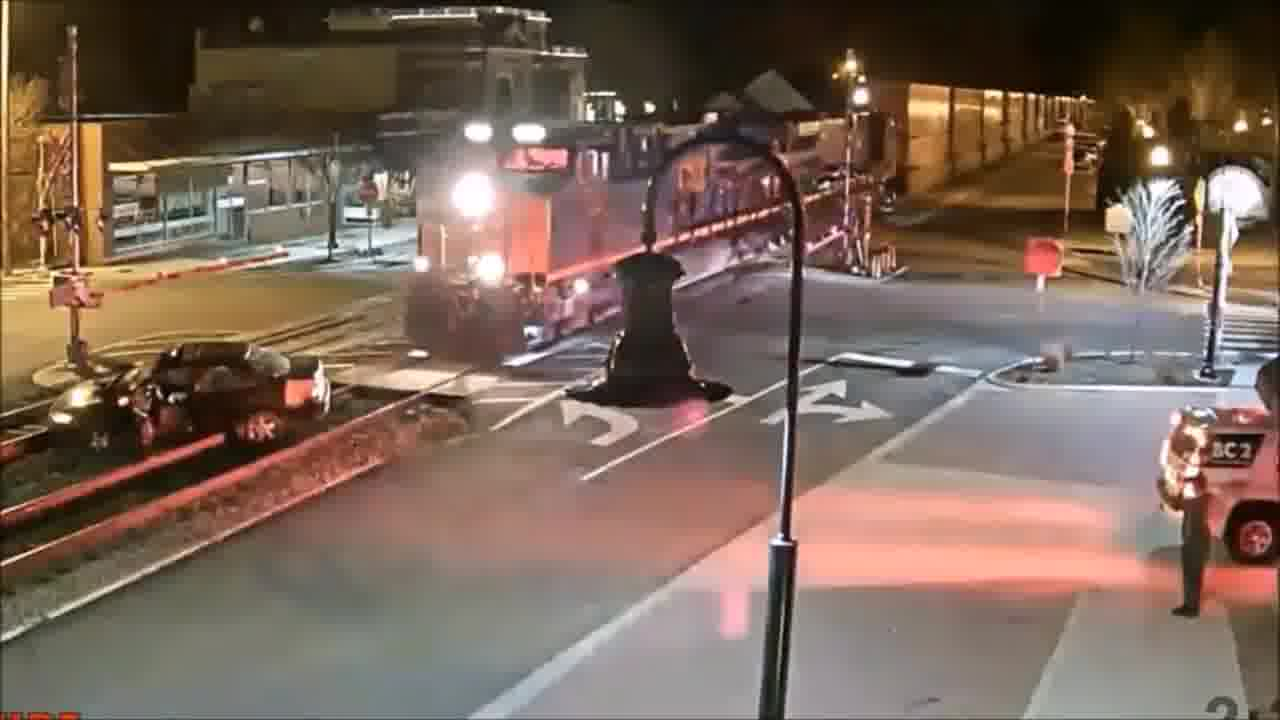crossing railway track: (38, 330, 349, 488)
